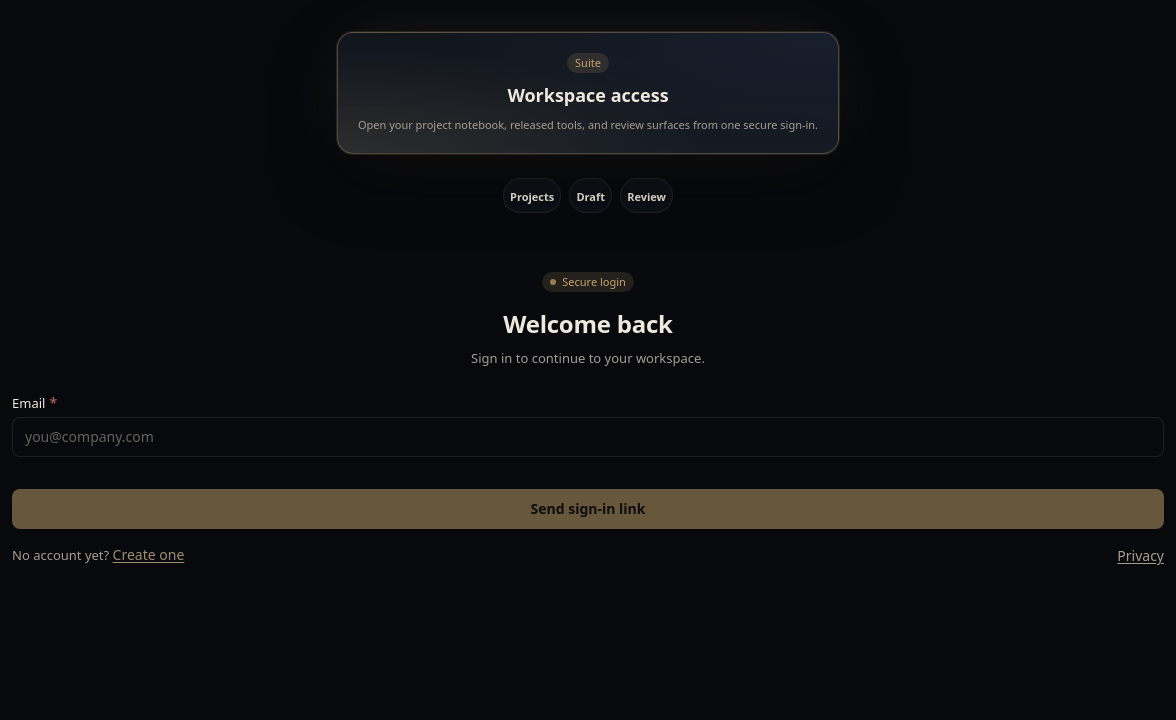
Test: LoginPage › renders email-link form by default and transitions to sent state after submit
The image size is (1176, 720).
Type " user@example.com " into the field with placeholder "you@company.com". click: (588, 437)
box: [12, 417, 1164, 457]
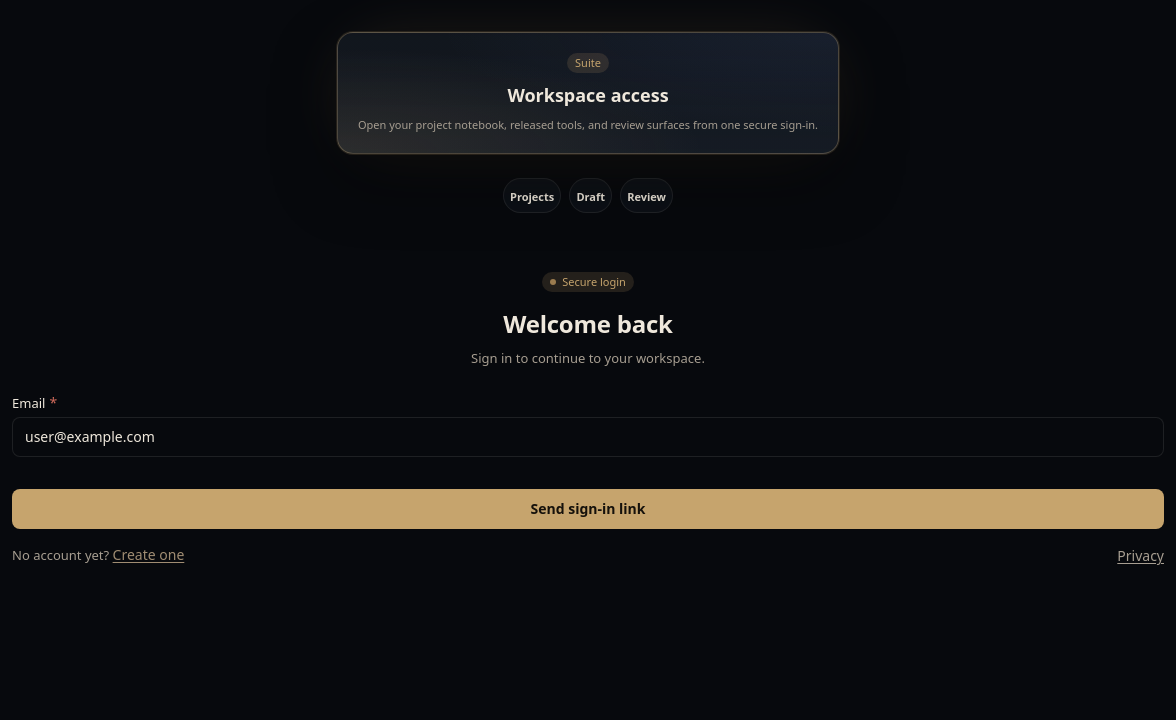
Click the button "Send sign-in link". click: (588, 509)
box: [12, 489, 1164, 529]
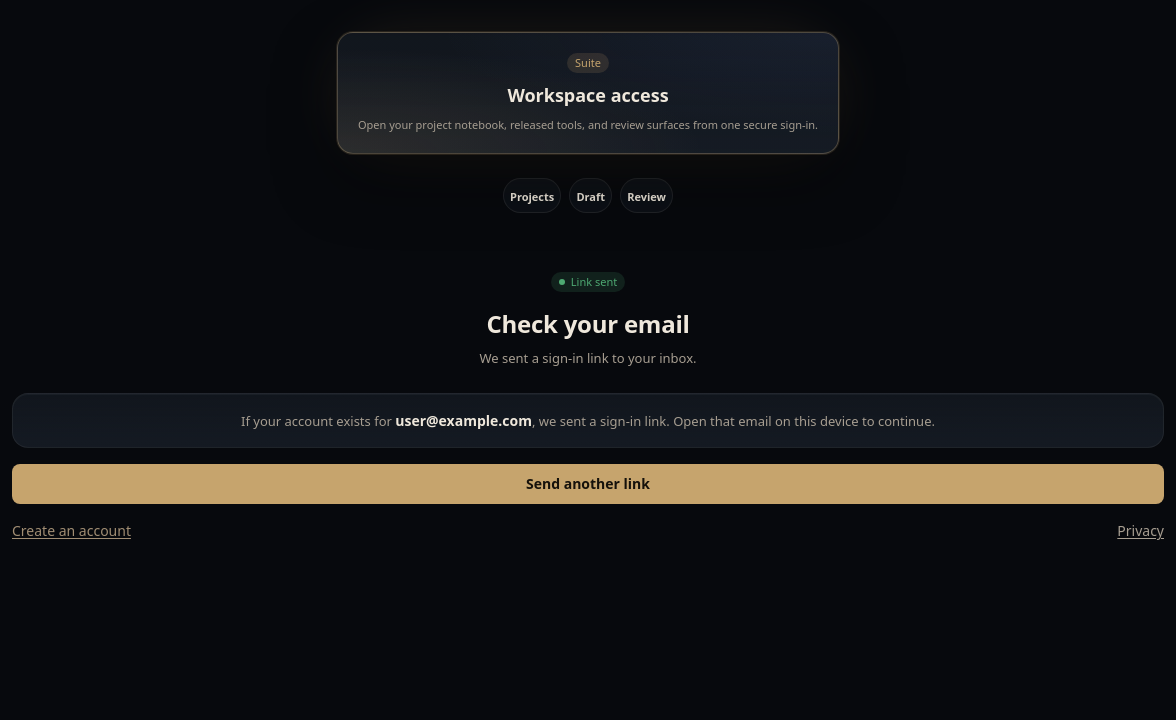
expect the heading "Check your email" is shown: met, box [486, 307, 690, 340]
expect the button "Send another link" is shown: met, box [12, 464, 1164, 504]
